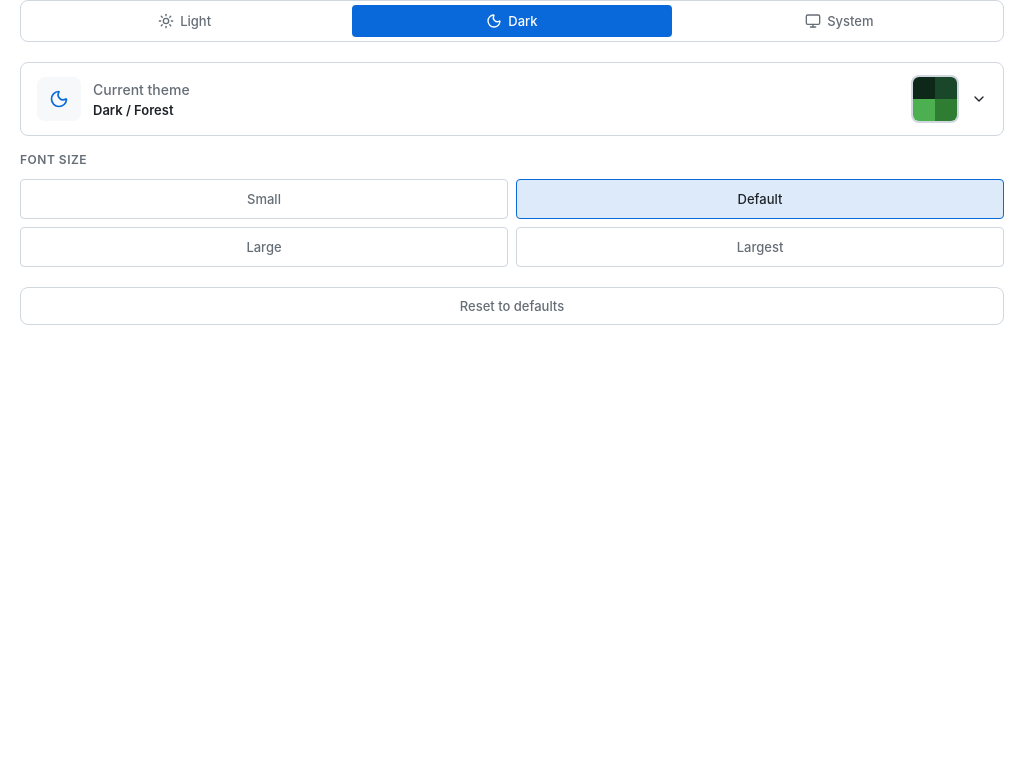
Scenario: ThemeSelector › opens shared swatched options and selects a color theme
Click the button "Current theme Dark / Forest" at (59, 99), box [20, 62, 1004, 136]
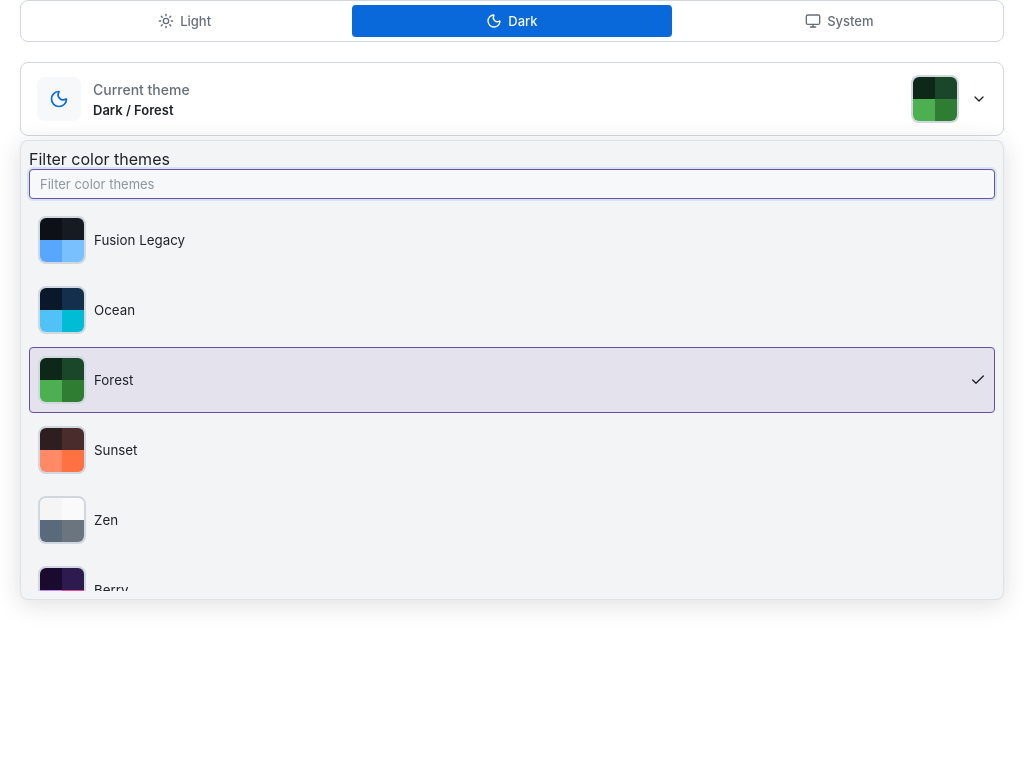
Result: the 2nd element with class "theme-option-swatch" is shown at [38, 216, 86, 264]
Result: the 3rd element with class "theme-option-swatch" is shown at [38, 286, 86, 334]
Result: the 4th element with class "theme-option-swatch" is shown at [38, 356, 86, 404]
Type "ocean" into the search field labelled "Filter color themes" at (512, 184), box [29, 169, 995, 199]
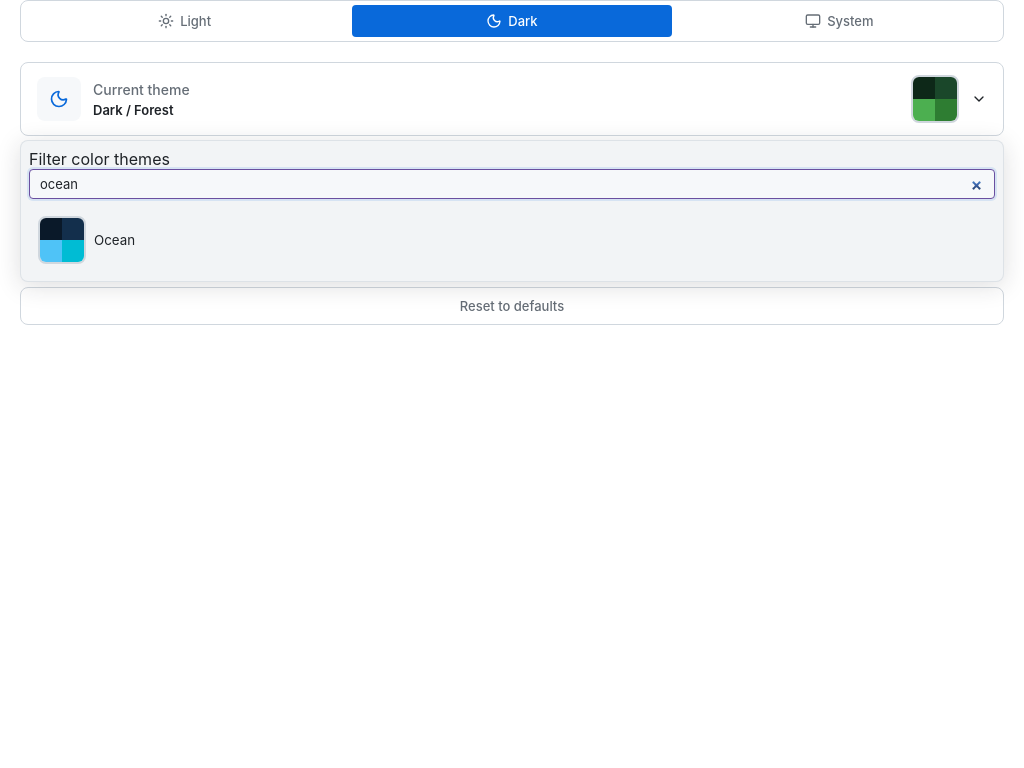
Result: the element with class "theme-option-swatch" below "Filter color themes" is shown at [38, 216, 86, 264]
Click the option "Ocean" at (62, 240), box [29, 207, 995, 273]
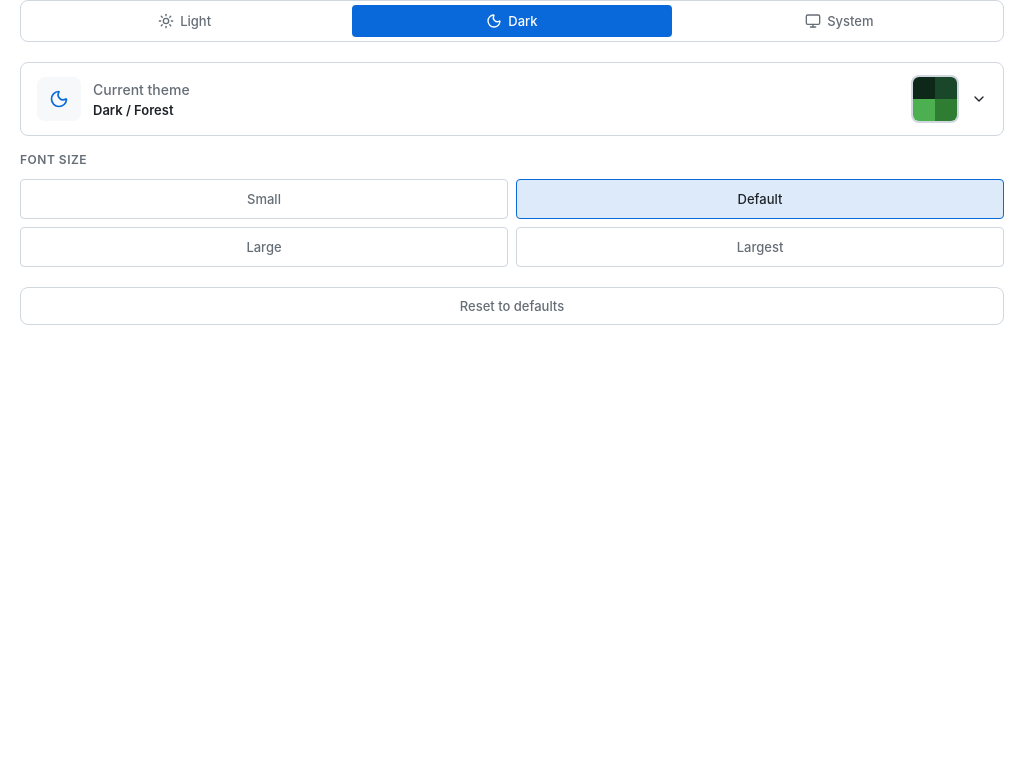
Result: the list is gone
